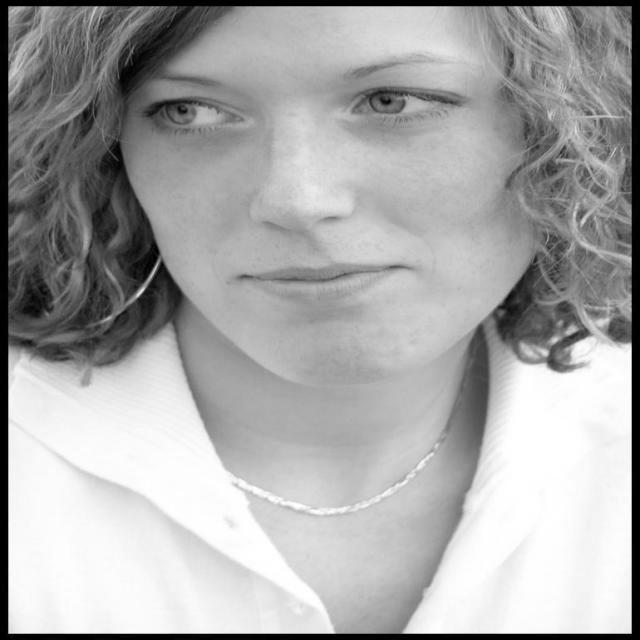real: (115, 20, 570, 384), (118, 60, 484, 140)
